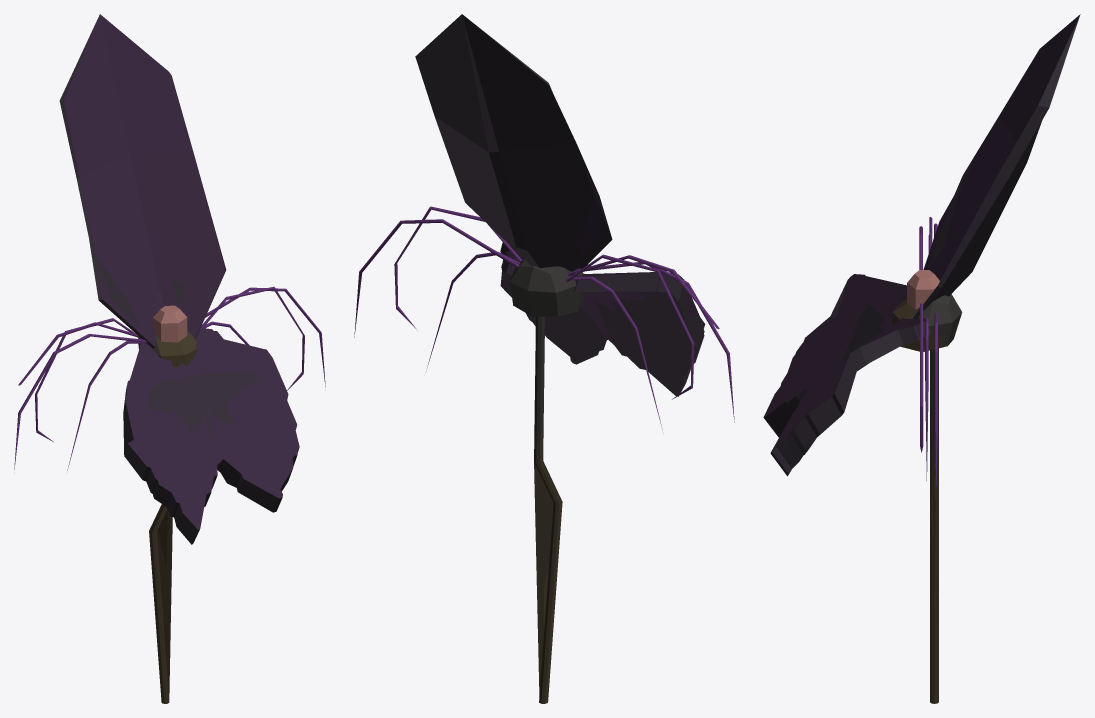
The model's file is Flor medicinal 3.fbx.
The picture shows the model from 3 angles, left to right: view 1: azimuth 30°, elevation 25°; view 2: azimuth 150°, elevation 25°; view 3: azimuth 270°, elevation 25°; orthographic projection. The views are drawn at different scales.
Parts seen in each view (by area): view 1: Tallo; view 2: Tallo; view 3: Tallo.
Part boxes in pixels (x1=…): Tallo: x1=14, y1=14, x2=325, y2=703; Tallo: x1=354, y1=14, x2=734, y2=703; Tallo: x1=763, y1=14, x2=1080, y2=703.
Size of the model in its own units: 23.48 by 44.9 by 18.72.
